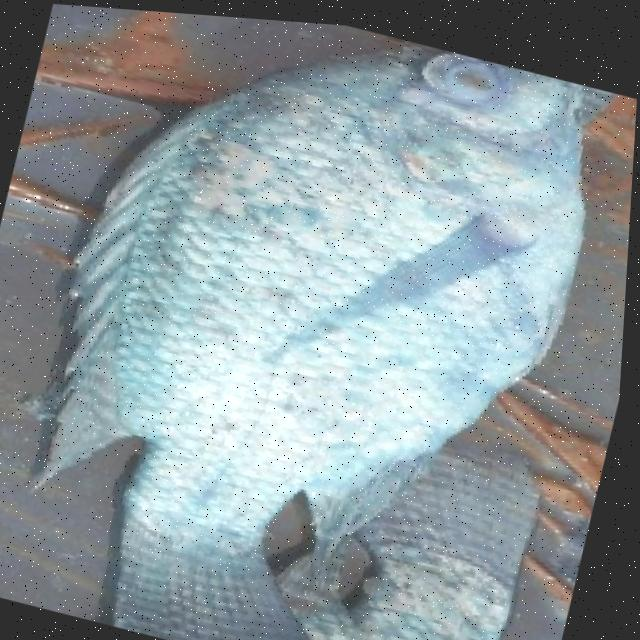Non-Fresh: (185, 12, 640, 528), (409, 37, 517, 115)
